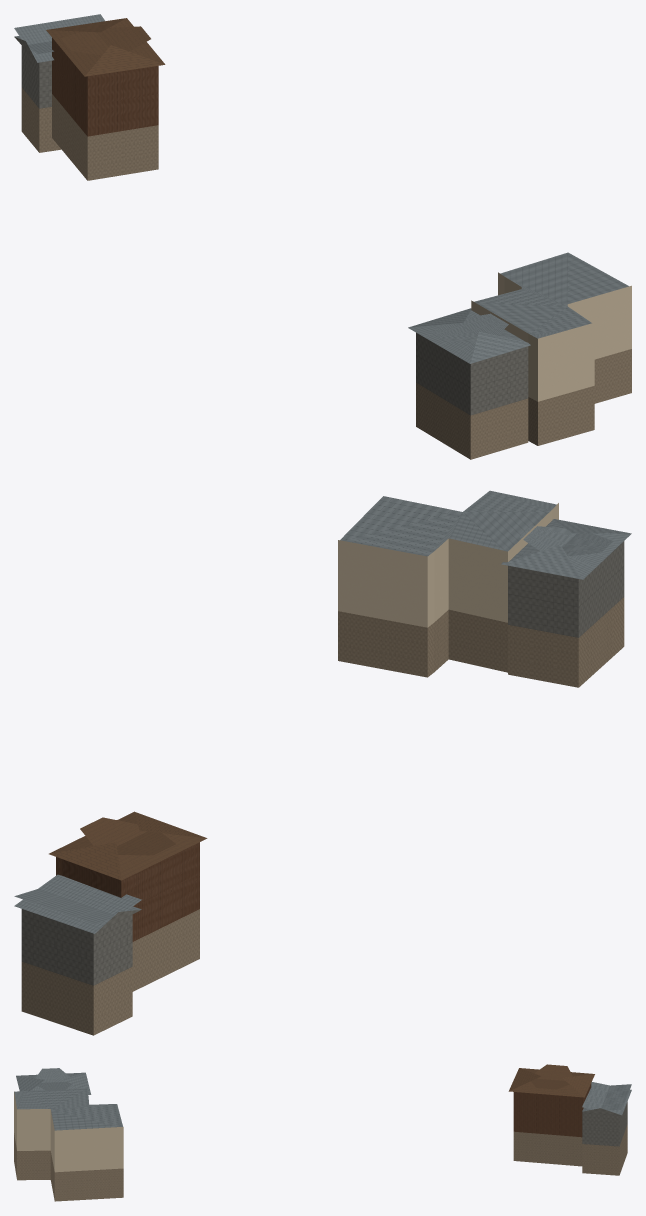
Rendered from bld_c32_-38_456.gltf.
The picture shows the model from 3 angles, top to bottom: view 1: azimuth 30°, elevation 25°; view 2: azimuth 150°, elevation 25°; view 3: azimuth 270°, elevation 25°; orthographic projection. The views are drawn at different scales.
Visible parts, largest first — view 1: bld_c32_-38_456; view 2: bld_c32_-38_456; view 3: bld_c32_-38_456.
Part boxes in pixels (x1,y1,x2,y2): bld_c32_-38_456: (14,14,631,459); bld_c32_-38_456: (14,490,631,1035); bld_c32_-38_456: (14,1064,631,1201).
Bounding box in the file's own units: 24.23 × 14.8 × 97.74.
8 materials, 8 textured.
